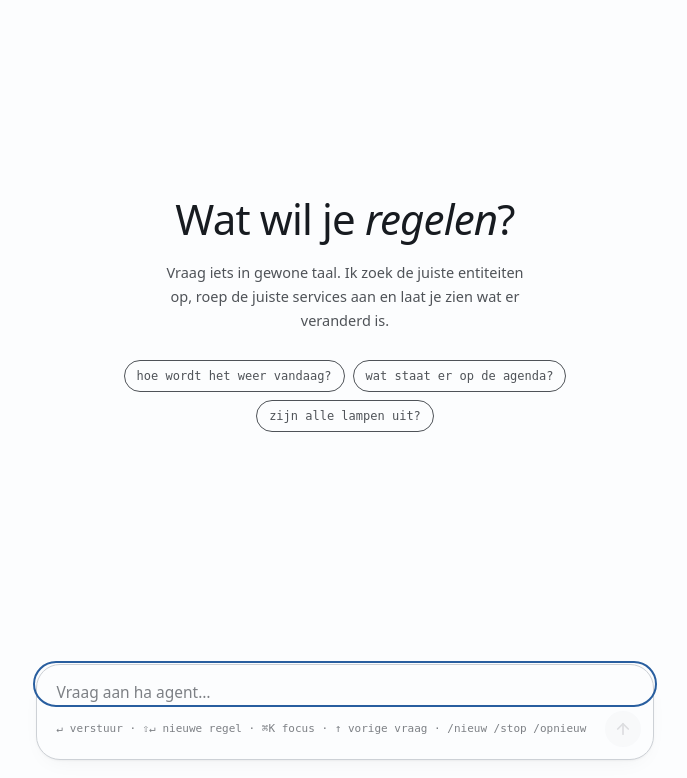
Test: ChatView › renders the agent's final text after streaming tool + text events
Type "noem drie lampen in huis" into the text box with placeholder "Vraag aan ha agent…".
click(345, 684); type("noem drie lampen in huis")  # box [36,664,653,703]
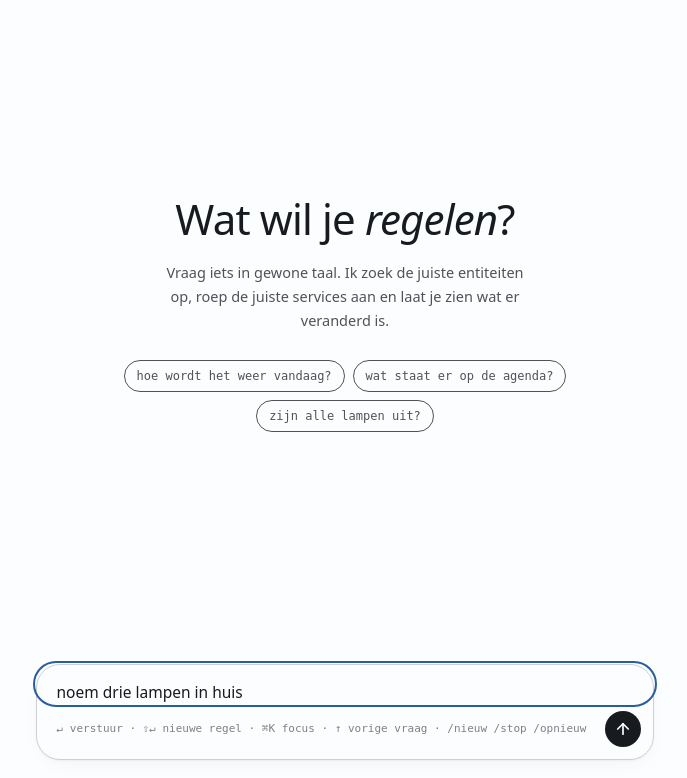
Submit the form, box [36,664,654,760]
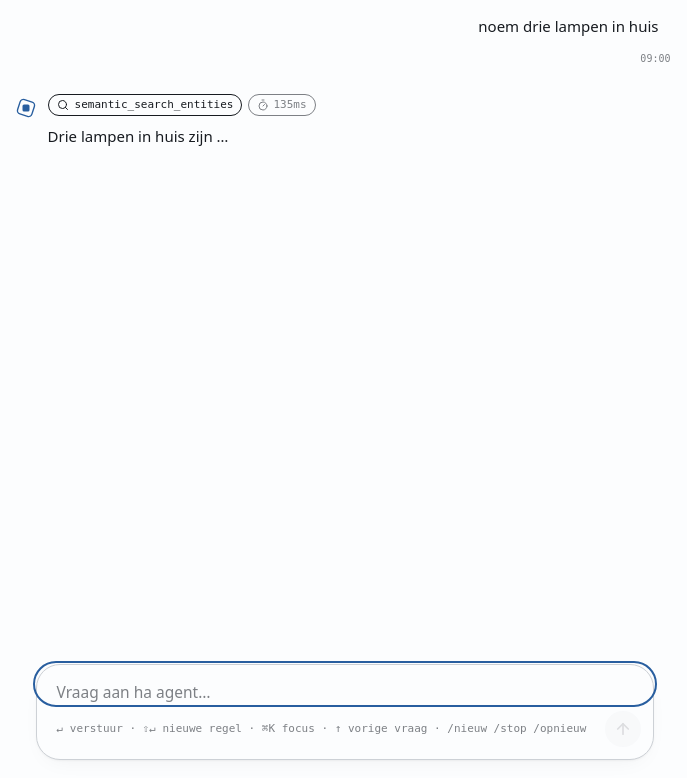
Expected: the text "noem drie lampen in huis" is shown, [478,16,658,36]
Expected: the text "Drie lampen in huis zijn …" is shown, [48,126,228,146]
Expected: the text "semantic_search_entities" is shown, [74,97,234,113]
